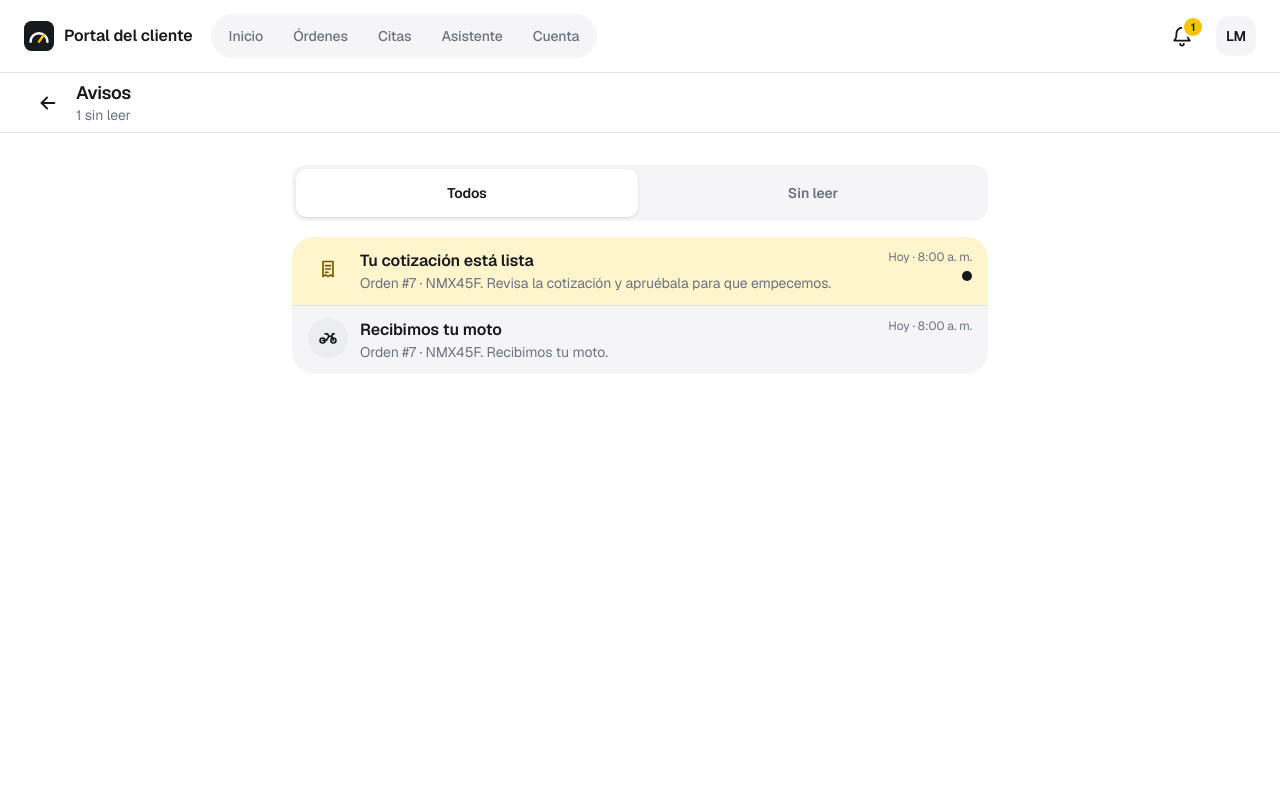
Test: HU-70 · Pantalla de avisos › al abrir un aviso sin leer queda leído, baja el contador y lleva a la orden
Later steps or results of the test are not shown.
Expected: the text "1 sin leer" is shown, top-left (76, 106), bottom-right (131, 124)
Click the button "Tu cotización está lista" at (640, 271), box top-left (292, 237), bottom-right (988, 305)
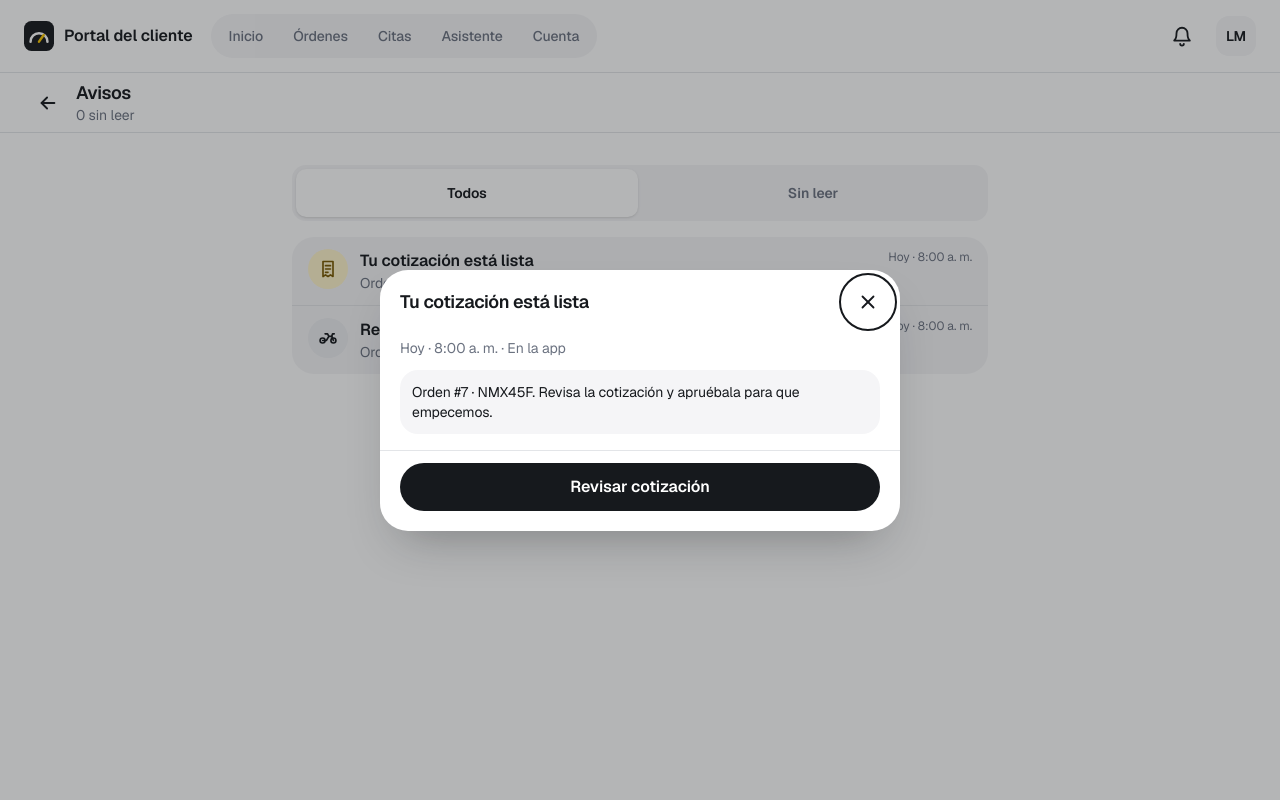
Expected: the text "0 sin leer" is shown, top-left (76, 106), bottom-right (135, 124)
